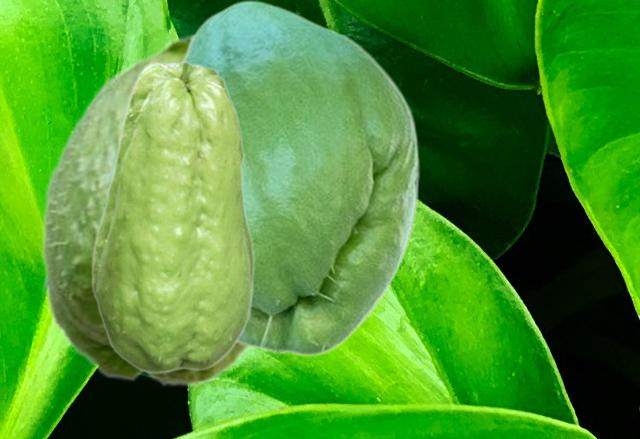sayote: (178, 0, 419, 357), (40, 30, 252, 387), (90, 60, 255, 374)
